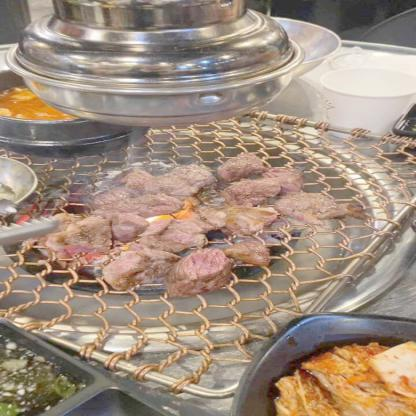Carne: (160, 244, 252, 294), (120, 168, 205, 216), (63, 211, 145, 256), (100, 245, 176, 288), (216, 206, 305, 233), (237, 170, 304, 204), (274, 189, 355, 217), (221, 177, 306, 201), (185, 205, 236, 239), (222, 148, 267, 176)
